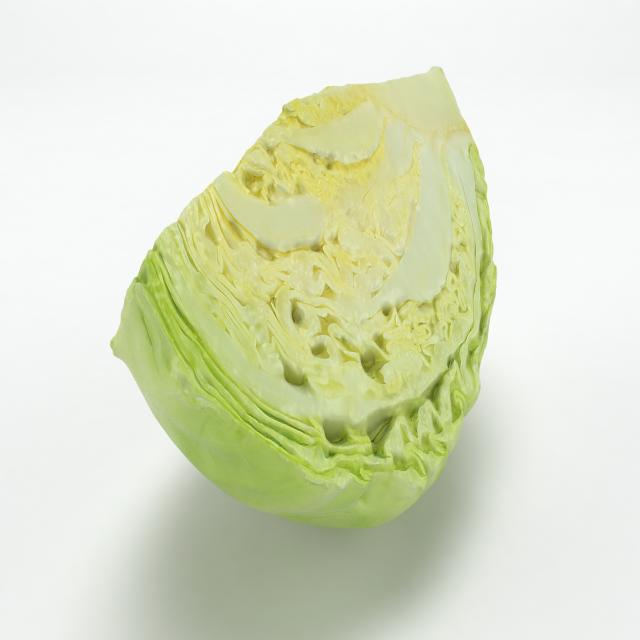haft-cabbage: (105, 63, 498, 533)
